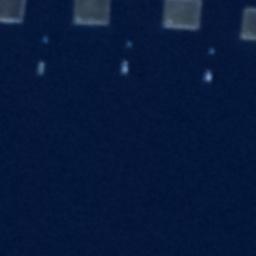square_cover: (163, 1, 209, 33), (70, 1, 118, 31), (237, 3, 256, 46), (1, 1, 31, 28)
